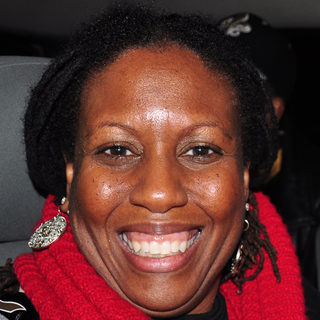eye: (90, 136, 146, 166), (172, 138, 228, 166)
